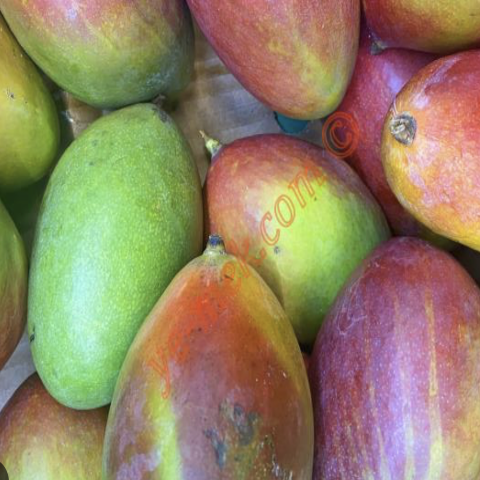mango: (24, 68, 206, 426), (92, 230, 328, 480), (187, 90, 394, 352), (296, 189, 480, 480)
